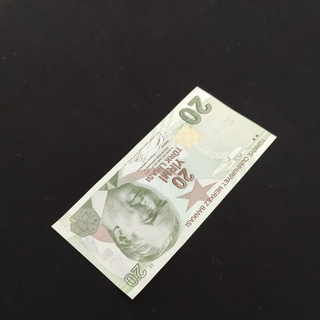20TLFront: (49, 85, 277, 299)
